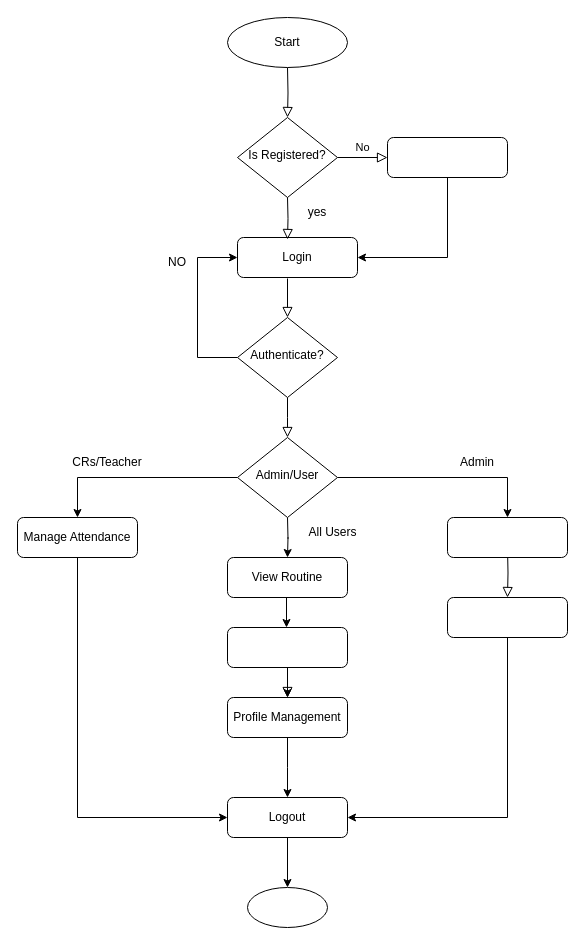
The diagram is 585 pixels wide and 945 high, and some of its shapes have lost their labels. Each missing label, with the centre of its shape:
"Manage CRs/Teacher" belongs at (507,617).
"Manage Routine" belongs at (507,537).
"Registration" belongs at (447,157).
"Stop" belongs at (287,907).
"View Marks" belongs at (287,647).
